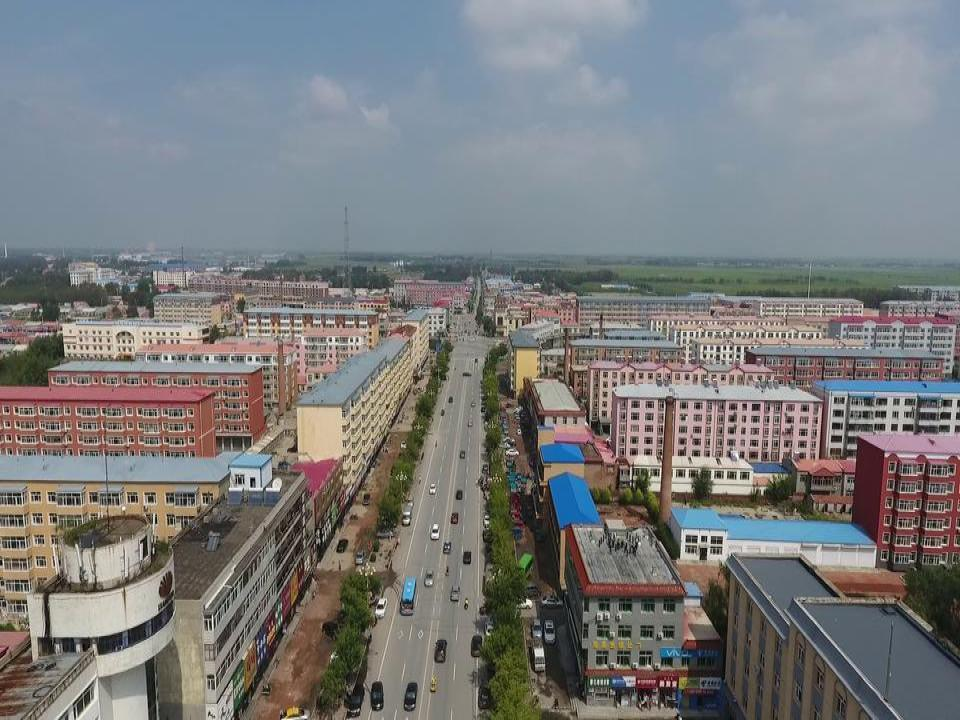bus: (399, 576, 417, 616), (513, 552, 534, 579)
car: (327, 650, 363, 674), (345, 684, 364, 717), (276, 705, 310, 720), (504, 592, 532, 609), (403, 681, 418, 712), (320, 619, 342, 640), (370, 680, 384, 712), (433, 639, 449, 664), (539, 594, 564, 610), (542, 618, 556, 646), (470, 632, 483, 659), (530, 616, 543, 643), (373, 596, 387, 617), (334, 537, 349, 555), (483, 620, 496, 640), (505, 445, 520, 459), (423, 568, 434, 587), (429, 523, 441, 540), (354, 550, 366, 566), (276, 460, 293, 471), (482, 525, 492, 543), (449, 586, 460, 601), (462, 550, 472, 566), (404, 496, 414, 512), (442, 540, 452, 555), (454, 488, 464, 501), (450, 511, 459, 524), (482, 515, 491, 528), (467, 416, 474, 428), (429, 483, 436, 494), (400, 439, 408, 448), (459, 449, 466, 459), (462, 371, 473, 377), (470, 397, 476, 408), (449, 395, 454, 401)
truck: (529, 633, 546, 672), (362, 492, 371, 505)
van: (520, 578, 542, 598), (401, 504, 413, 525)
